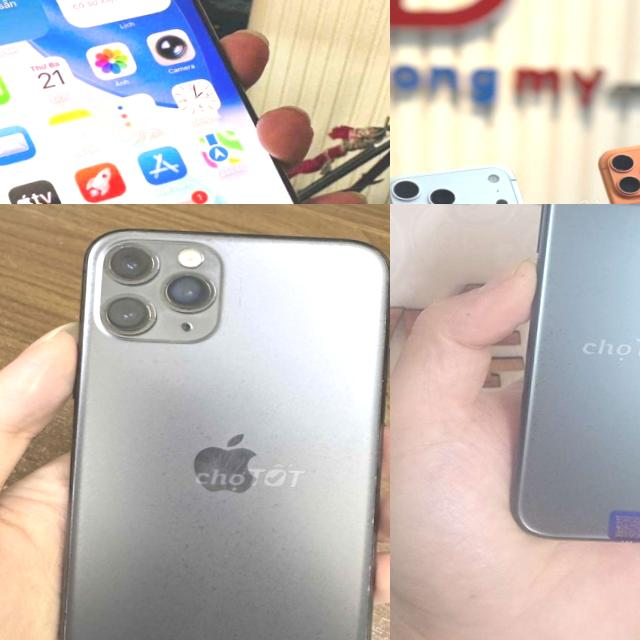gen_11: (46, 214, 390, 640), (494, 204, 640, 567)
gen_16: (0, 0, 382, 204)
